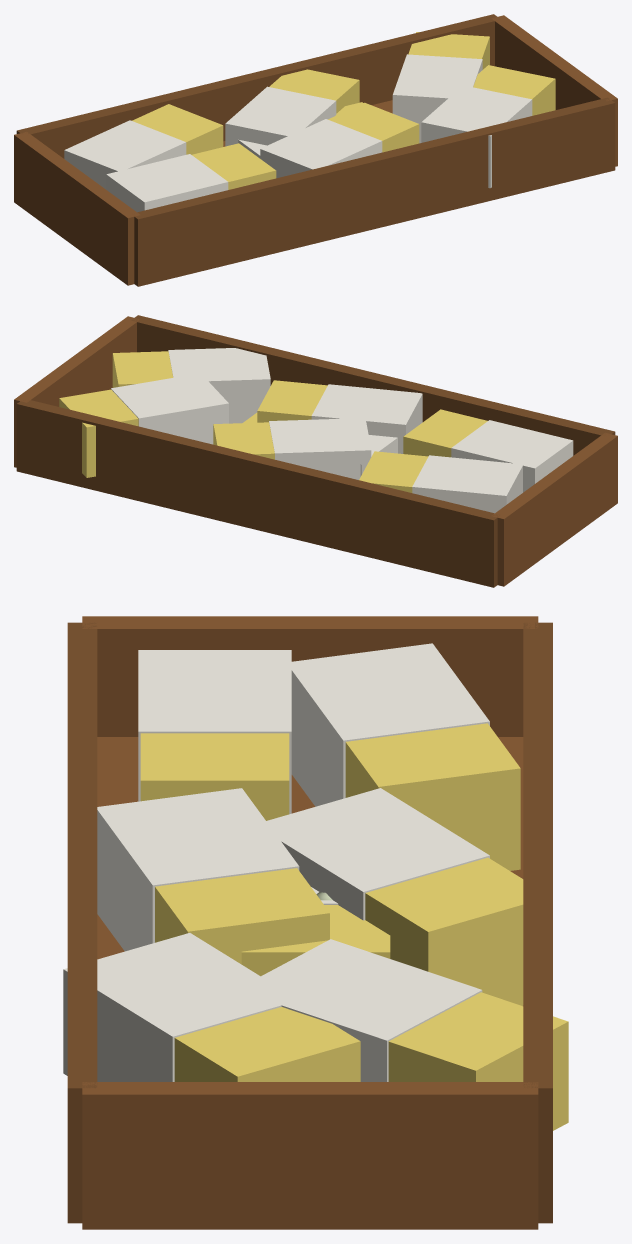
Rendered from Proc_Butter.fbx.
3 renders of one model, top to bottom at view 1: azimuth 30°, elevation 25°; view 2: azimuth 150°, elevation 25°; view 3: azimuth 270°, elevation 25°, orthographic. The views are drawn at different scales.
Parts seen in each view (by area): view 1: Proc_Butter__Stack; view 2: Proc_Butter__Stack, Proc_Butter; view 3: Proc_Butter__Stack, Proc_Butter.
Part boxes in pixels (x1=…): Proc_Butter__Stack: x1=14, y1=14, x2=617, y2=286; Proc_Butter__Stack: x1=14, y1=315, x2=617, y2=587; Proc_Butter: x1=242, y1=412, x2=397, y2=476; Proc_Butter__Stack: x1=63, y1=616, x2=568, y2=1229; Proc_Butter: x1=241, y1=887, x2=390, y2=976.
Bounding box in the file's own units: 0.304 × 0.04 × 0.1357.
